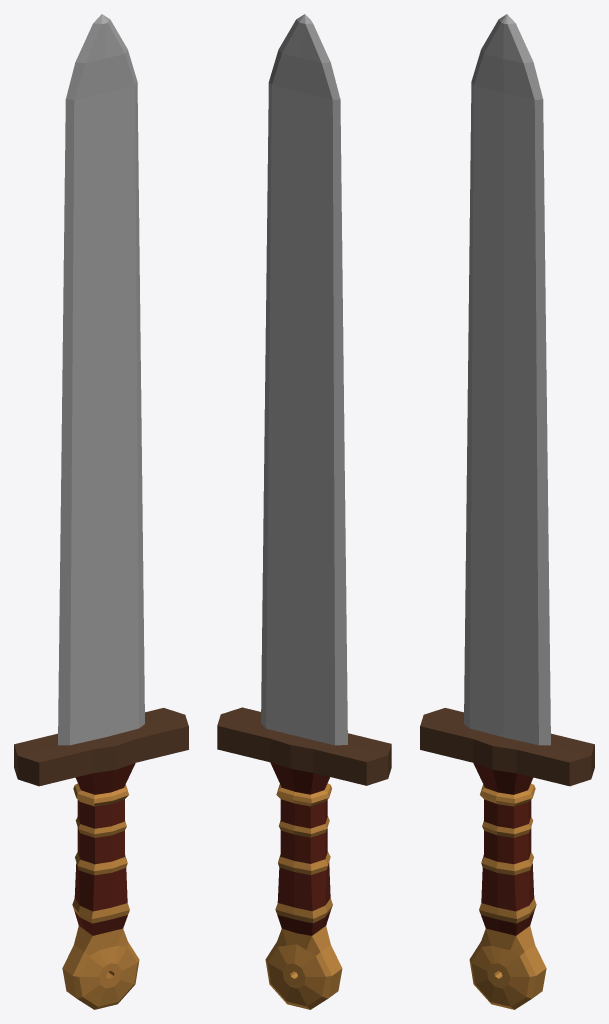
Rendered from Sword.glb.
3 views of the same model, side by side, from view 1: azimuth 30°, elevation 25°; view 2: azimuth 150°, elevation 25°; view 3: azimuth 330°, elevation 25° (orthographic).
Parts seen in each view (by area): view 1: Sword; view 2: Sword; view 3: Sword.
Part boxes in pixels (x1=…): Sword: x1=14, y1=14, x2=188, y2=1009; Sword: x1=217, y1=14, x2=391, y2=1009; Sword: x1=420, y1=14, x2=594, y2=1009.
Size of the model in its own units: 0.7711 by 4.35 by 0.2286.
